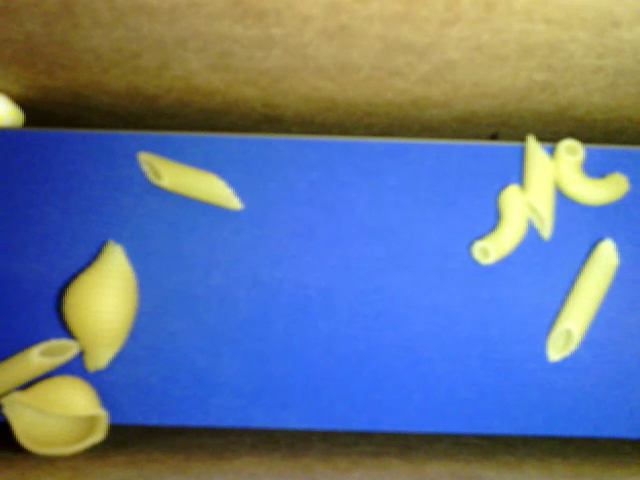elbow: (550, 137, 631, 207), (471, 183, 528, 265)
penne: (545, 237, 619, 364), (136, 151, 242, 210), (1, 338, 82, 393), (522, 132, 557, 239)
shell: (64, 240, 140, 372), (2, 373, 107, 454)
